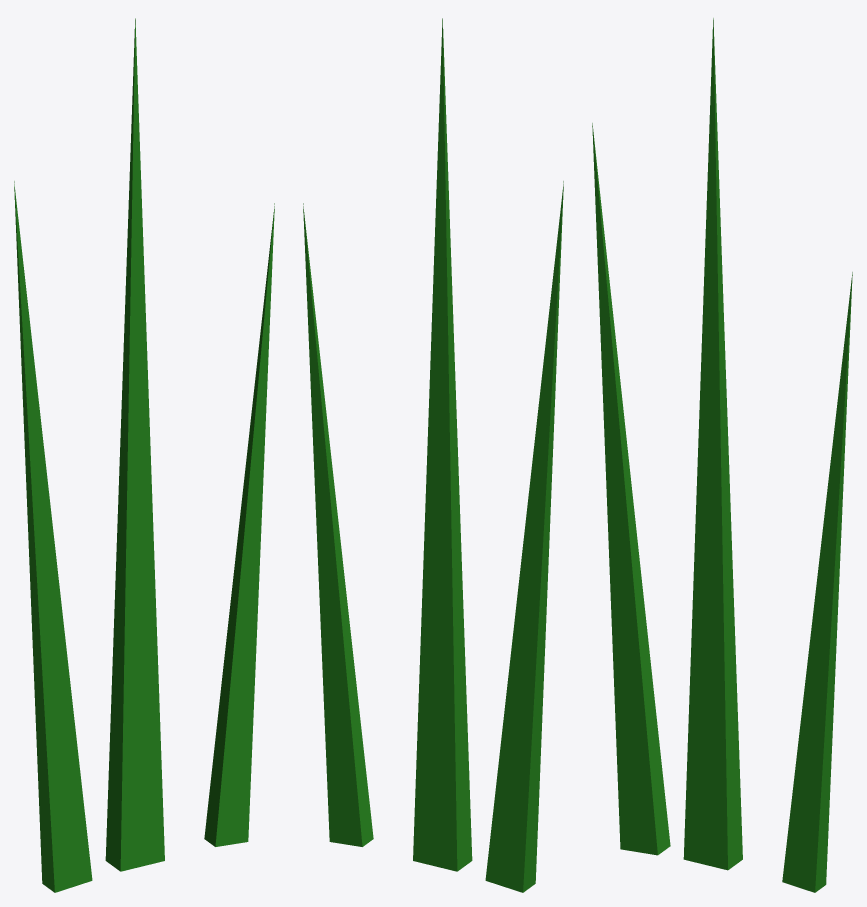
The model's file is grass1.gltf.
3 views of the same model, side by side, from view 1: azimuth 30°, elevation 25°; view 2: azimuth 150°, elevation 25°; view 3: azimuth 330°, elevation 25° (orthographic).
Visible parts, largest first — view 1: Grass_2_mat; view 2: Grass_2_mat; view 3: Grass_2_mat.
Boxes of the visible parts, x1,y1,x2,y2 form: Grass_2_mat: (14,18,274,892); Grass_2_mat: (303,18,563,892); Grass_2_mat: (592,18,852,892).
Size of the model in its own units: 0.1467 by 0.4583 by 0.0145.
